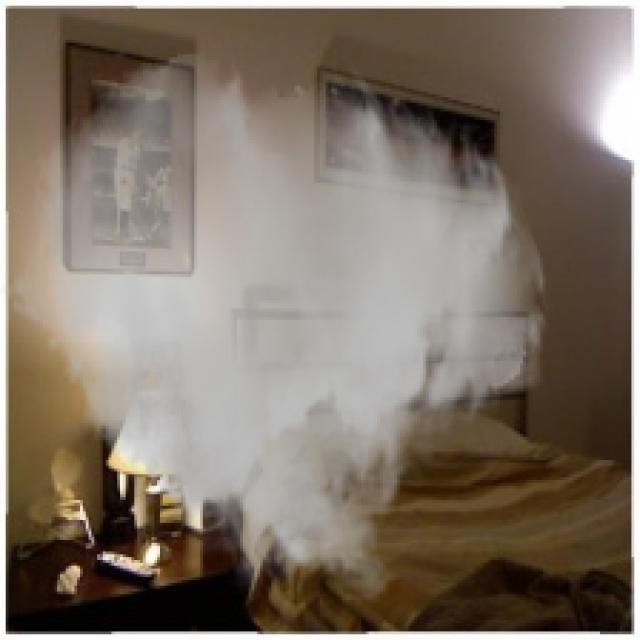Smoke: (0, 48, 552, 606)
